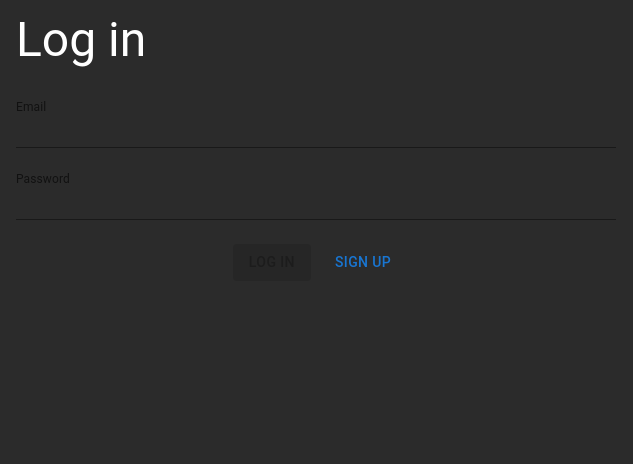
Authenticate component › renders 'Sign up' text, email, password, confirmpassword fields
Click the button "Sign up".
click(363, 262)  # box top-left (327, 244), bottom-right (399, 280)
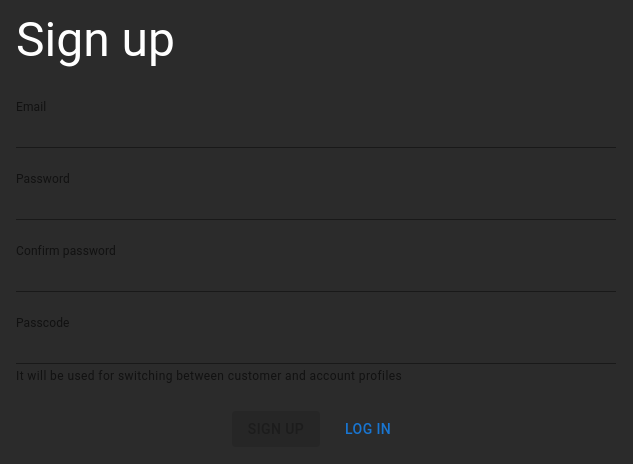
Result: the heading "Sign up" is shown at top-left (16, 11), bottom-right (175, 68)
Result: the button named "Sign up" reads "Log in" at top-left (336, 411), bottom-right (400, 447)
